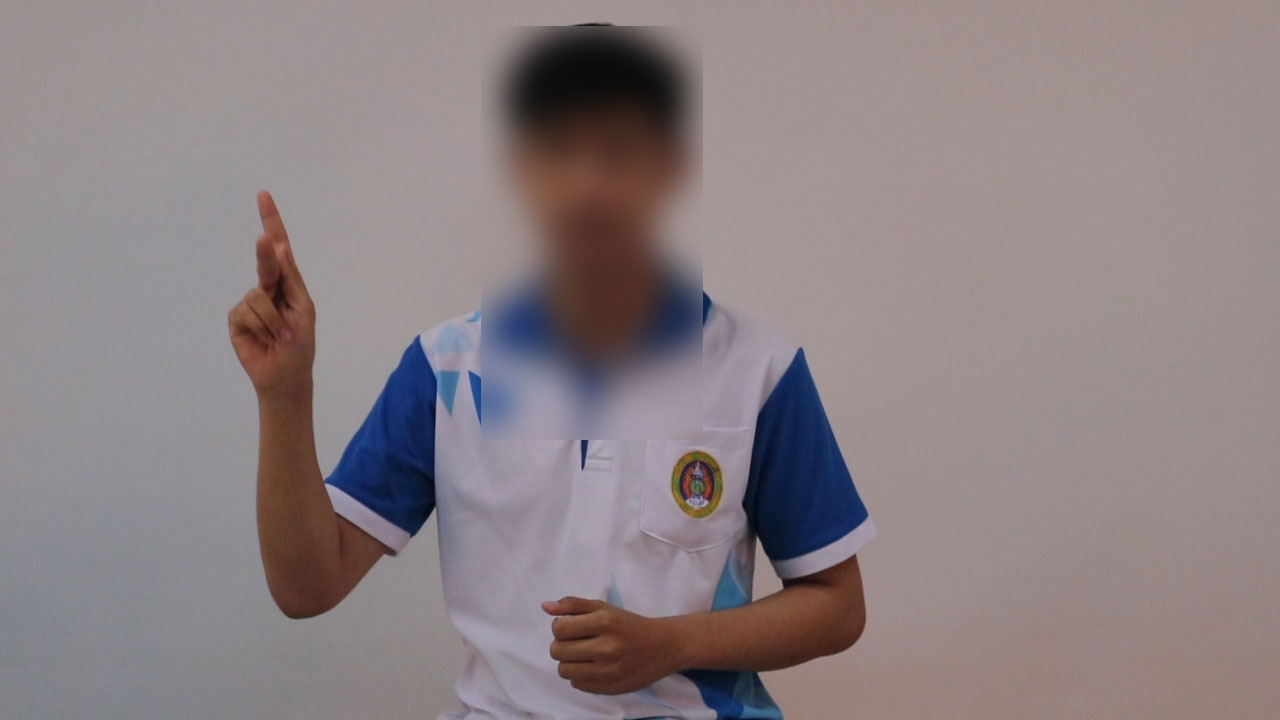ko: (181, 167, 360, 420)
